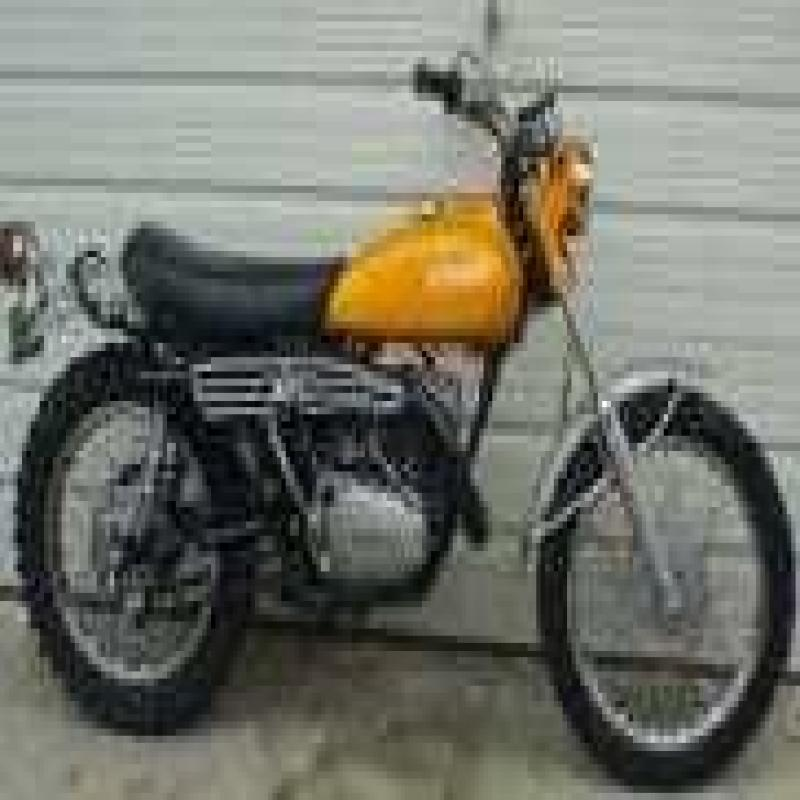bike: (0, 44, 800, 774)
